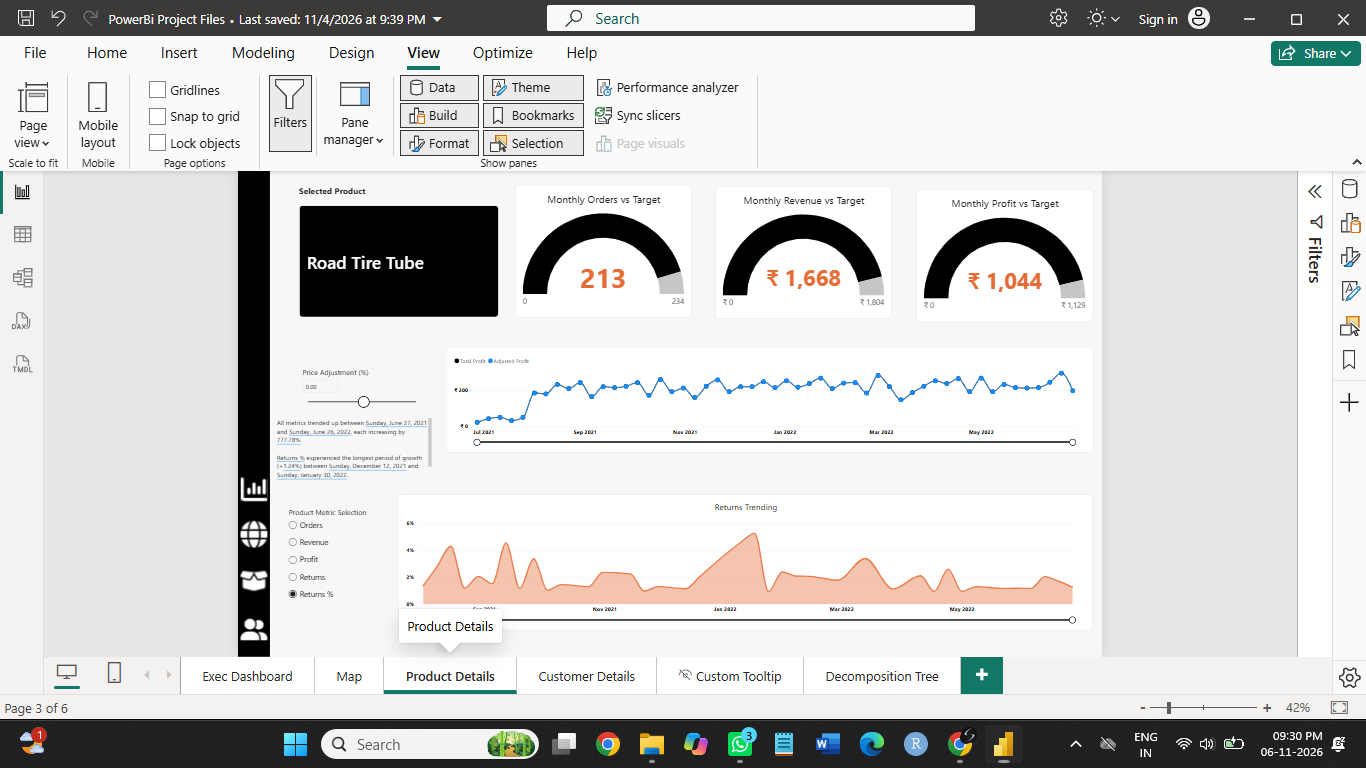

Layout of this report page (visuals, bound fields, positions):
{"tool":"powerbi","page":{"name":"Product Details","canvas":[1920,1080],"ordinal":2},"visuals":[{"type":"shape","box":[0,0,71.4,1080.2],"z":0},{"type":"actionButton","box":[0,663.8,71.4,88],"z":0,"group":"g1"},{"type":"gauge","title":"Monthly Orders vs Target","fields":{"MaxValue":["Measure Table.Order Target"],"Y":["Measure Table.Total Orders"]},"box":[616.2,30.9,392.6,295],"z":1000},{"type":"actionButton","box":[0,768.5,71.4,78.5],"z":1000,"group":"g1"},{"type":"gauge","title":"Monthly Revenue vs Target","fields":{"MaxValue":["Measure Table.Revenue Target"],"Y":["Measure Table.Total Revenue"]},"box":[1061.8,32.3,392.6,295],"z":2000},{"type":"actionButton","box":[0,863.7,71.4,95.2],"z":2000,"group":"g1"},{"type":"gauge","title":"Monthly Profit vs Target","fields":{"MaxValue":["Measure Table.Profit Target"],"Y":["Measure Table.Total Profit"]},"box":[1507.3,39.8,392.6,295],"z":3000},{"type":"actionButton","box":[0,975.5,71.4,88],"z":3000,"group":"g1"},{"type":"lineChart","title":"Profits Trending","fields":{"Category":["Calendar Lookup.Date Hirerachy.Start of year","Calendar Lookup.Date Hirerachy.Start of month","Calendar Lookup.Date Hirerachy.Start of week","Calendar Lookup.Date Hirerachy.Date"],"Y":["Measure Table.Total Profit","Measure Table.Adjusted Profit"]},"box":[463.9,393.1,1437.5,233.3],"z":4000},{"type":"areaChart","title":"Returns Trending","fields":{"Category":["Calendar Lookup.Date Hirerachy.Start of year","Calendar Lookup.Date Hirerachy.Start of month","Calendar Lookup.Date Hirerachy.Start of week","Calendar Lookup.Date Hirerachy.Date"],"Y":["Measure Table.Return Rate"]},"box":[357.5,718.8,1543.8,302.5],"z":5000},{"type":"textbox","box":[135.6,30.9,328.3,45.2],"z":6000},{"type":"cardVisual","fields":{"Data":["Min(Product Lookup.ProductName)"]},"box":[135.6,76.1,444.9,249.8],"z":7000},{"type":"group","id":"g1","title":"Navigation Buttons","box":[0,663.8,71.4,399.7],"z":8000},{"type":"slicer","fields":{"Values":["Price Adjustment (%).Price Adjustment (%)"]},"box":[135,437.5,278.8,146.2],"z":9000},{"type":"slicer","fields":{"Values":["Product Metric Selection.Product Metric Selection"]},"box":[105,747.5,221.2,227.5],"z":10000},{"type":"textbox","box":[85.9,550,345.3,157.8],"z":11000}]}

Visuals, with their boxes on the page's 1920x1080 design canvas (x1, y1, x2, y2). These are canvas units, not pixel positions in the 1366x768 screenshot, which may show the page scaled, cropped or inside an application window:
shape: rect(0, 0, 71, 1080)
actionButton: rect(0, 664, 71, 752)
"Monthly Orders vs Target" gauge: rect(616, 31, 1009, 326)
actionButton: rect(0, 768, 71, 847)
"Monthly Revenue vs Target" gauge: rect(1062, 32, 1454, 327)
actionButton: rect(0, 864, 71, 959)
"Monthly Profit vs Target" gauge: rect(1507, 40, 1900, 335)
actionButton: rect(0, 976, 71, 1064)
"Profits Trending" lineChart: rect(464, 393, 1901, 626)
"Returns Trending" areaChart: rect(358, 719, 1901, 1021)
textbox: rect(136, 31, 464, 76)
cardVisual - Min(Product Lookup.ProductName): rect(136, 76, 580, 326)
"Navigation Buttons" group: rect(0, 664, 71, 1064)
slicer - Price Adjustment (%).Price Adjustment (%): rect(135, 438, 414, 584)
slicer - Product Metric Selection.Product Metric Selection: rect(105, 748, 326, 975)
textbox: rect(86, 550, 431, 708)
